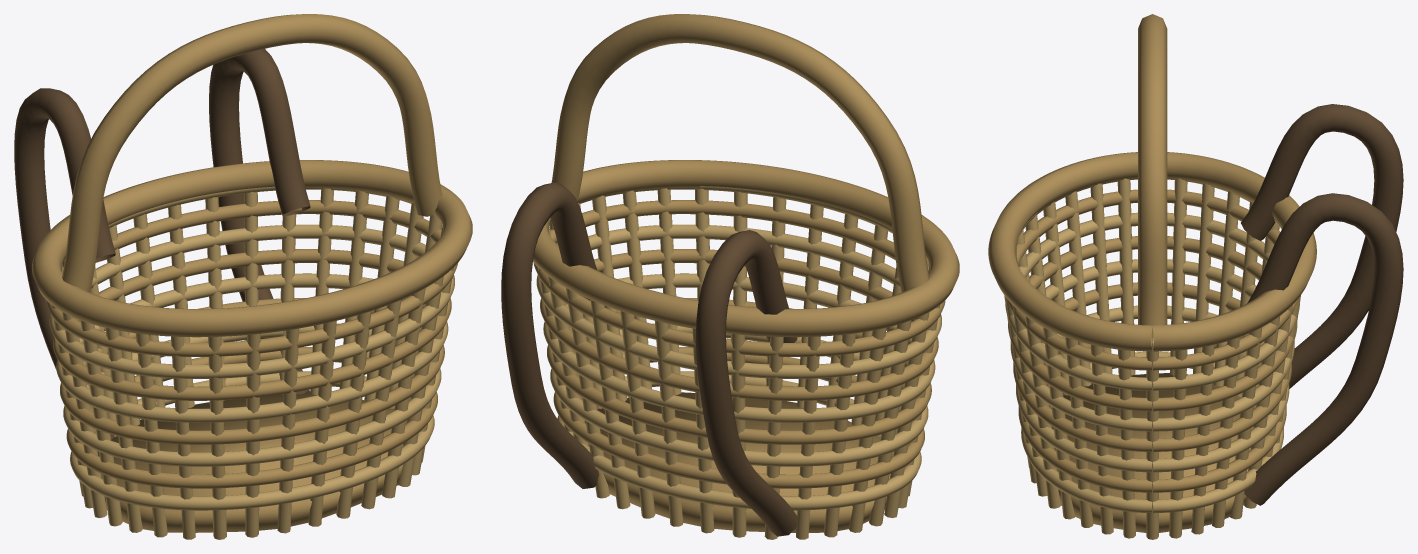
The model's file is basket.glb.
The picture shows the model from 3 angles, left to right: view 1: azimuth 30°, elevation 25°; view 2: azimuth 150°, elevation 25°; view 3: azimuth 270°, elevation 25°; orthographic projection. The views are drawn at different scales.
Visible parts, largest first — view 1: Basket base; view 2: Basket base; view 3: Basket base.
Boxes of the visible parts, left/top/right/bottom form: Basket base: left=14, top=14, right=472, bottom=539; Basket base: left=501, top=14, right=959, bottom=539; Basket base: left=988, top=14, right=1403, bottom=539.
Bounding box in the file's own units: 0.7479 × 0.8067 × 0.7078.
